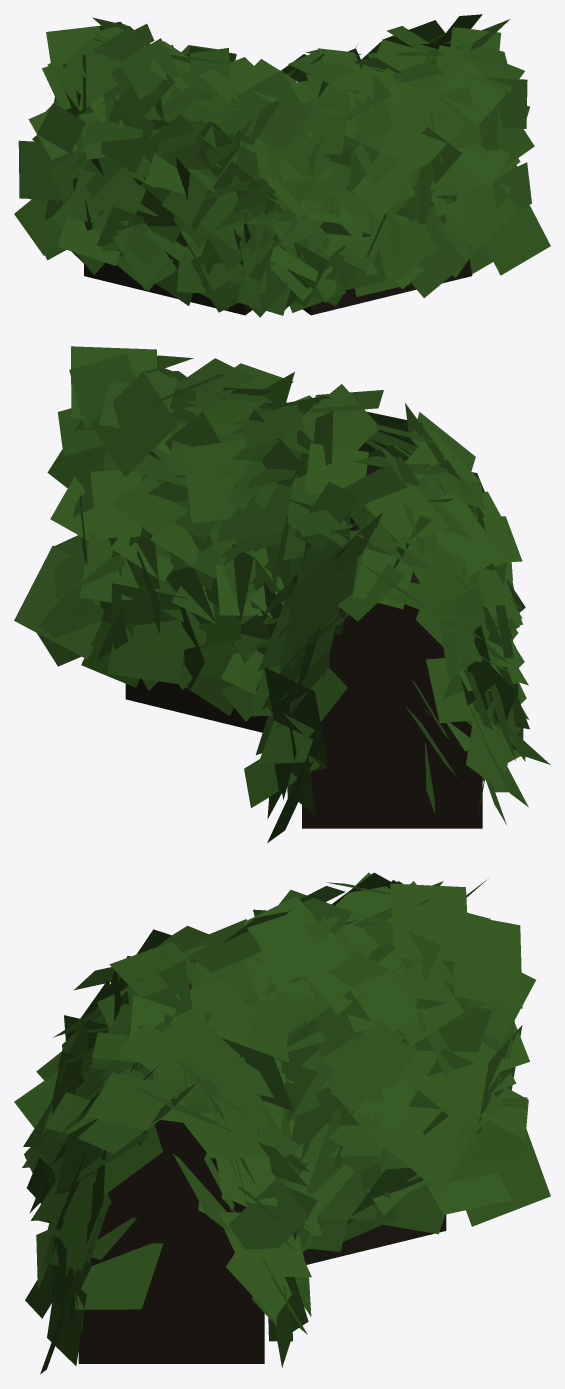
The model's file is hedge_bend.glb.
3 renders of one model, top to bottom at view 1: azimuth 30°, elevation 25°; view 2: azimuth 150°, elevation 25°; view 3: azimuth 270°, elevation 25°, orthographic. The views are drawn at different scales.
Parts seen in each view (by area): view 1: hedge_bend_lod0; view 2: hedge_bend_lod0; view 3: hedge_bend_lod0.
Boxes of the visible parts, left/top/right/bottom form: hedge_bend_lod0: left=14, top=14, right=550, bottom=317; hedge_bend_lod0: left=14, top=346, right=550, bottom=843; hedge_bend_lod0: left=14, top=872, right=550, bottom=1374.
Size of what is drawn, in the model's own units: 4.3 by 2.33 by 3.46.
